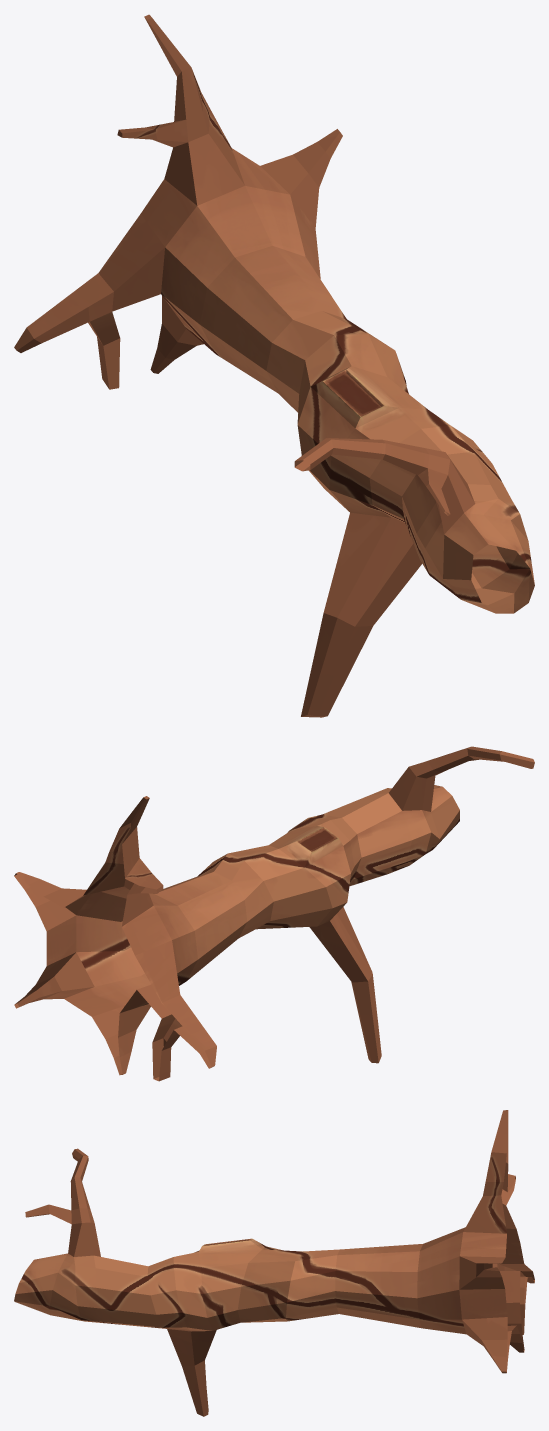
The model's file is DeadTree1.fbx.
3 views of the same model, one above another, from view 1: azimuth 30°, elevation 25°; view 2: azimuth 150°, elevation 25°; view 3: azimuth 270°, elevation 25° (orthographic). The views are drawn at different scales.
Visible parts, largest first — view 1: DeadTree1; view 2: DeadTree1; view 3: DeadTree1.
Boxes of the visible parts, x1=… form: DeadTree1: x1=14, y1=14, x2=534, y2=717; DeadTree1: x1=14, y1=746, x2=534, y2=1081; DeadTree1: x1=14, y1=1110, x2=534, y2=1416.
Size of the model in its own units: 1180 by 1544 by 2232.
